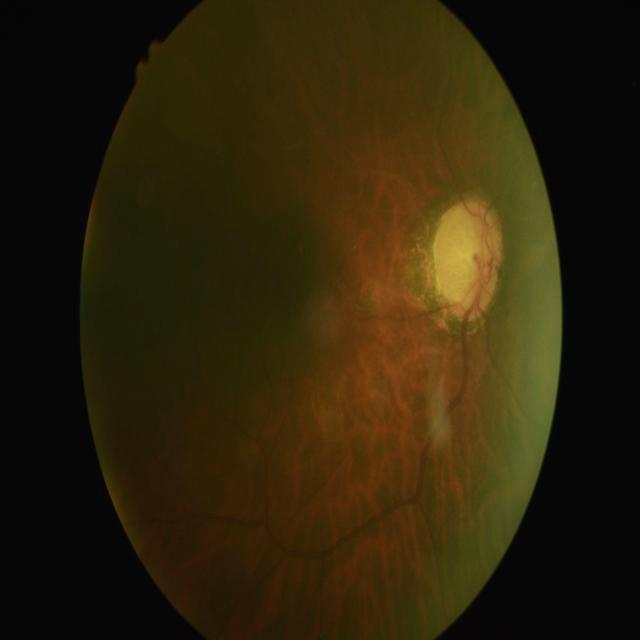cup: (434, 214, 494, 310)
disk: (432, 200, 503, 319)
